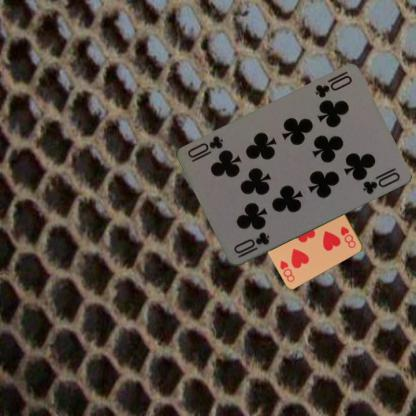10c: (312, 69, 353, 100), (231, 230, 271, 260)
8h: (338, 224, 357, 250)
